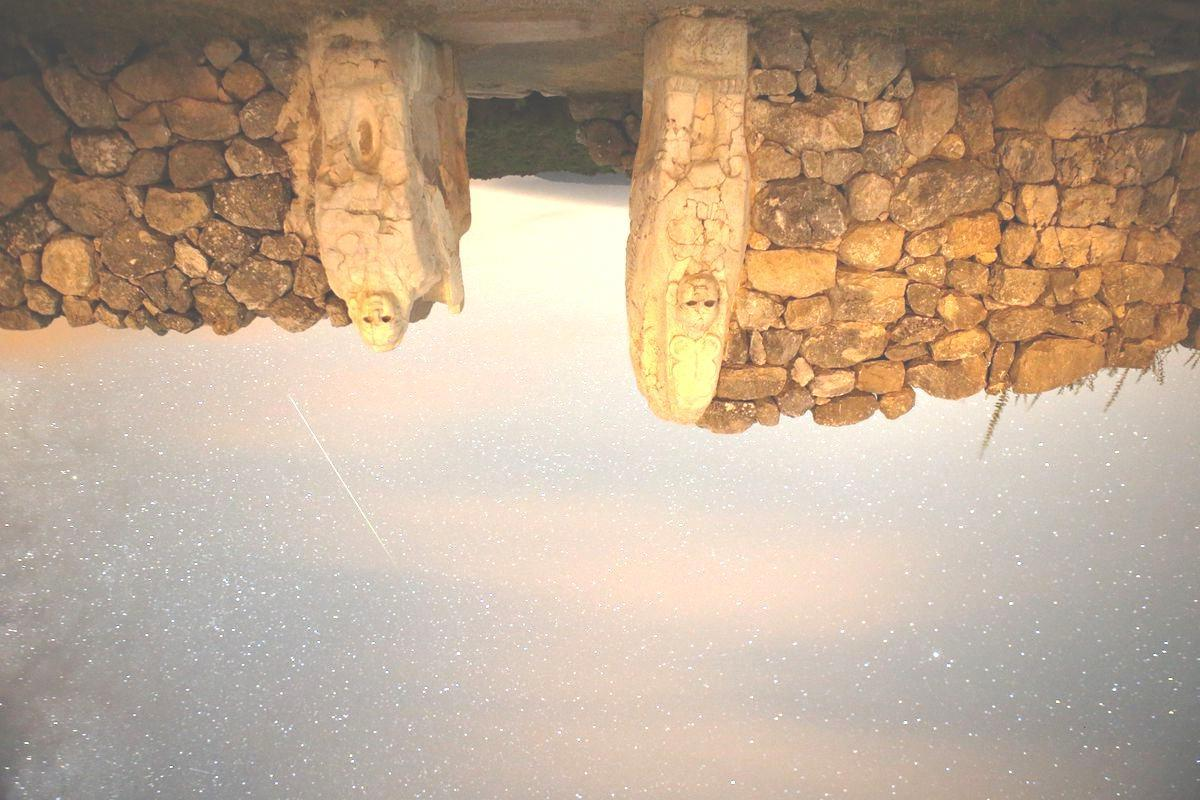meteorite: (263, 391, 428, 590)
